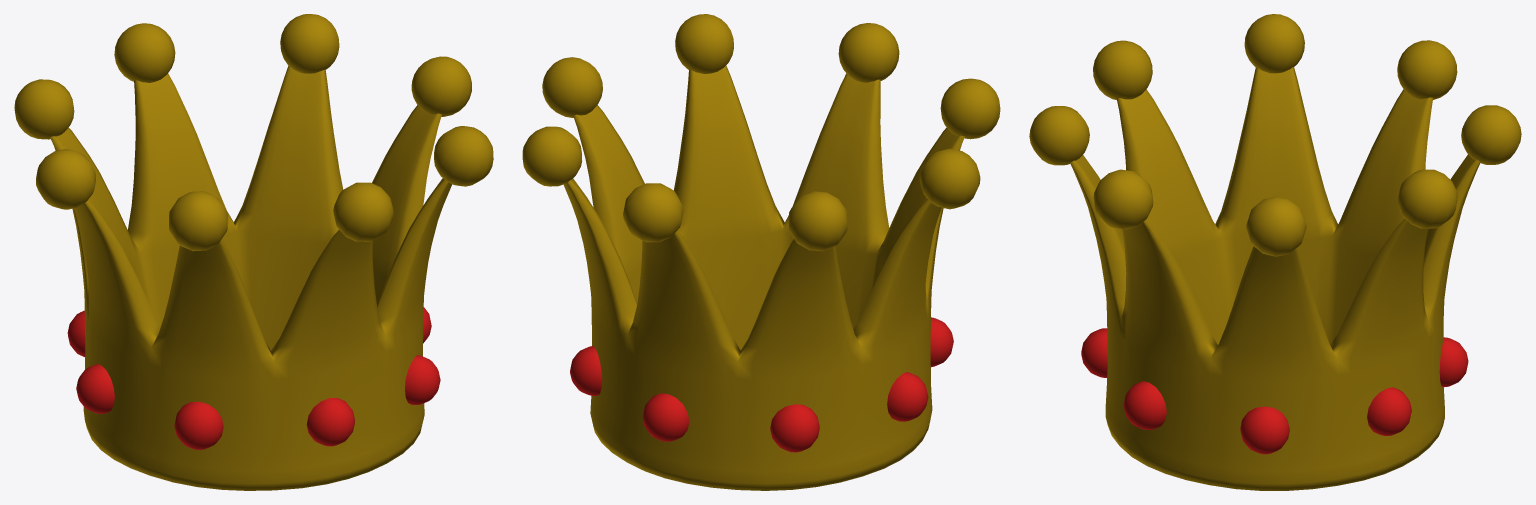
File: crown.glb
3 renders of one model, left to right at view 1: azimuth 30°, elevation 25°; view 2: azimuth 150°, elevation 25°; view 3: azimuth 270°, elevation 25°, orthographic.
Visible parts, largest first — view 1: node_id5; view 2: node_id5; view 3: node_id5.
Boxes of the visible parts, left/top/right/bottom form: node_id5: left=14, top=14, right=493, bottom=490; node_id5: left=522, top=14, right=1000, bottom=490; node_id5: left=1029, top=14, right=1521, bottom=490.
Bounding box in the file's own units: 0.512 × 0.3655 × 0.5115.
1 material, 1 textured.
